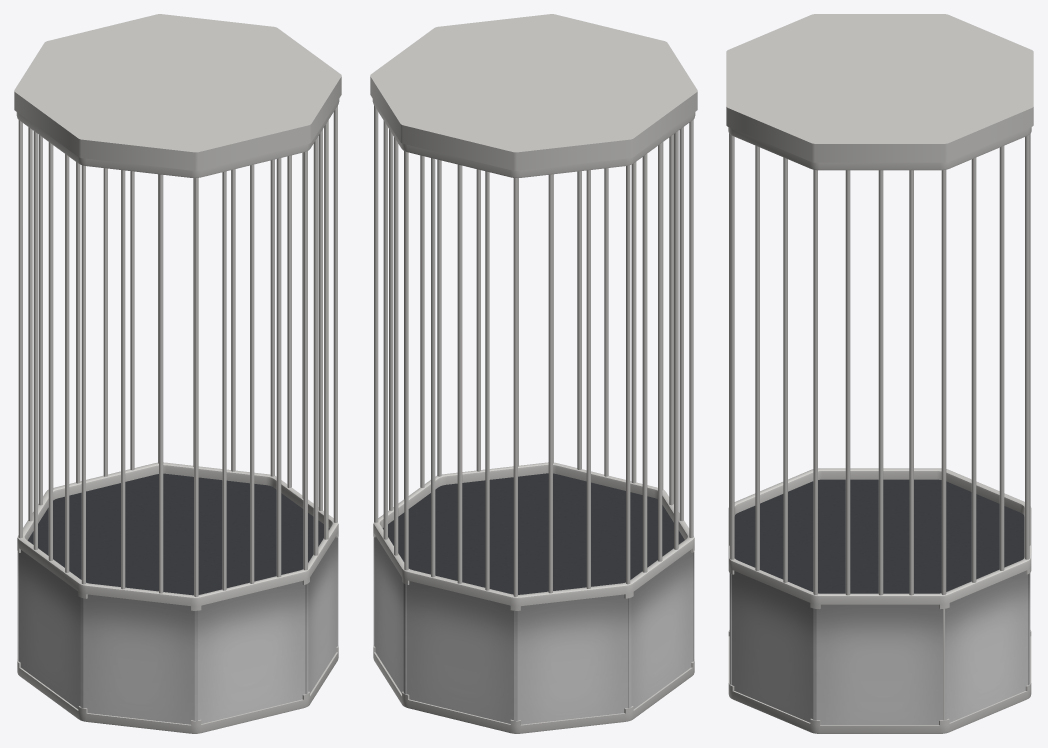
File: GoGo01.FBX
3 views of the same model, side by side, from view 1: azimuth 30°, elevation 25°; view 2: azimuth 150°, elevation 25°; view 3: azimuth 270°, elevation 25° (orthographic).
Visible parts, largest first — view 1: GoGo1; view 2: GoGo1; view 3: GoGo1.
Boxes of the visible parts, x1,y1,x2,y2 form: GoGo1: [14, 14, 341, 733]; GoGo1: [370, 14, 697, 733]; GoGo1: [726, 14, 1033, 733].
Bounding box in the file's own units: 151 × 320 × 151.
